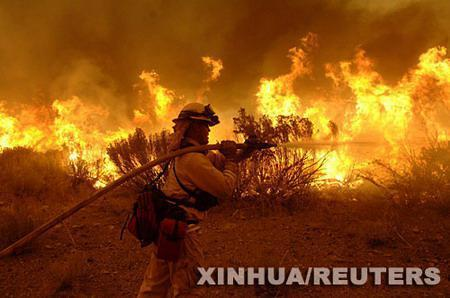fire: (252, 46, 444, 169), (1, 90, 174, 185), (137, 59, 237, 102)
